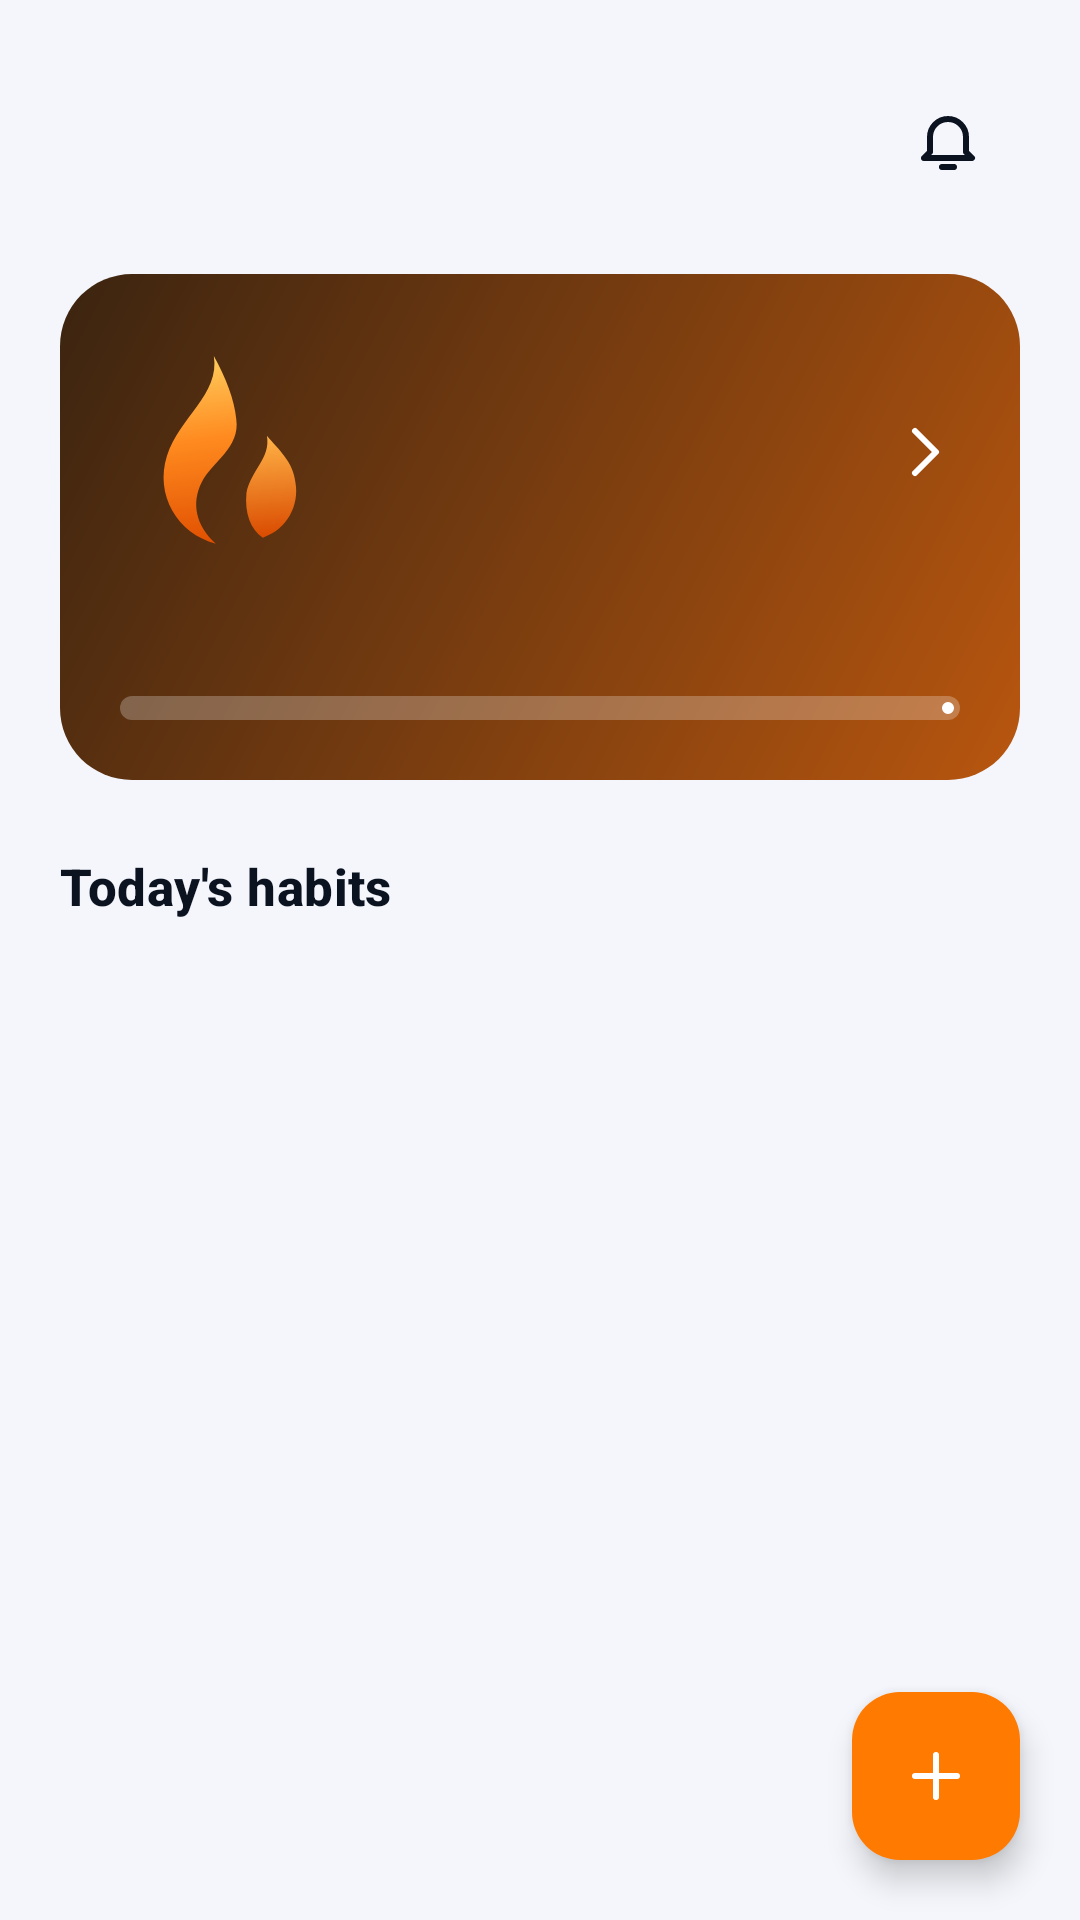

Named icons in this screenshot (1080 x 1920) and their bounding boxes, box(x1, y1, x2, y2):
Add habit: box(852, 1692, 1020, 1860)
chevron right: box(912, 428, 939, 476)
flame: box(153, 350, 324, 554)
Notifications: box(921, 116, 975, 170)
